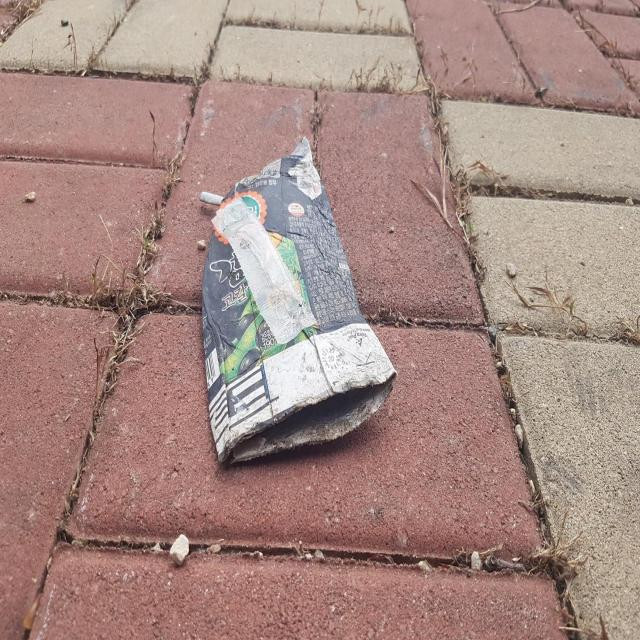paperpack: (202, 136, 396, 462)
